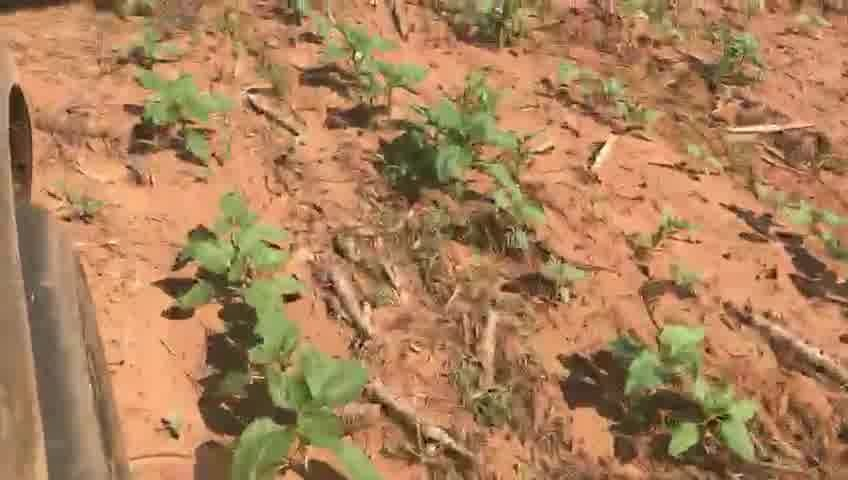sunflower: (195, 354, 386, 480), (153, 196, 300, 322), (381, 99, 510, 203), (129, 69, 241, 173), (604, 321, 711, 406), (657, 389, 772, 464), (201, 281, 308, 353), (475, 161, 552, 237), (316, 22, 389, 94), (354, 60, 435, 123), (715, 34, 773, 94), (523, 249, 593, 297), (787, 197, 838, 261), (567, 60, 626, 114), (608, 97, 676, 141), (120, 28, 169, 75), (278, 4, 333, 44), (481, 9, 533, 48)
